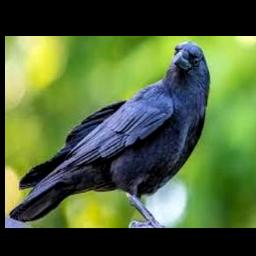Crow: (9, 41, 211, 227)
